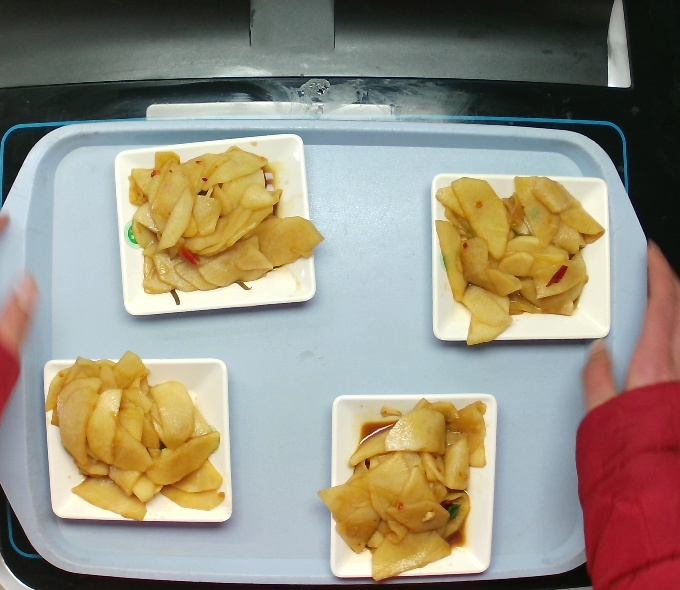wcq-YanLuoBo: (118, 144, 322, 302), (53, 347, 220, 530), (432, 166, 603, 343), (324, 406, 488, 569)
